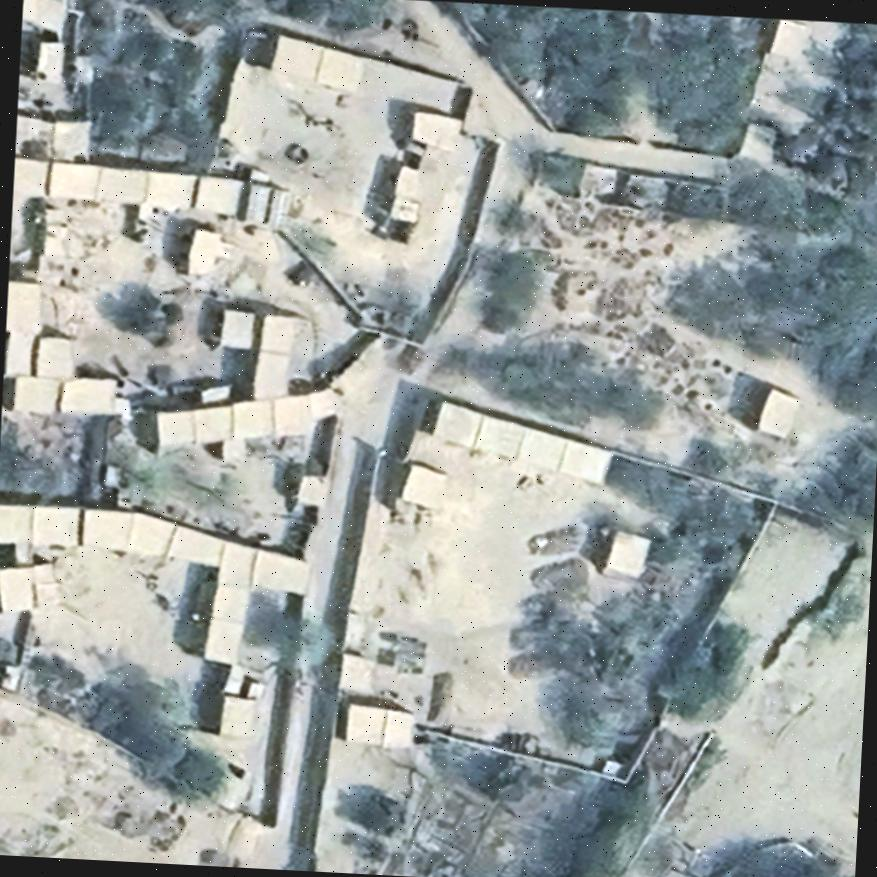Solarpanel: (245, 182, 268, 223), (268, 188, 290, 230)
